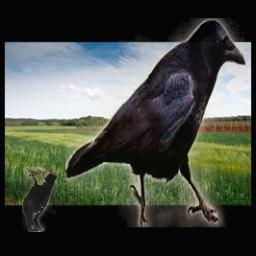Crow: (66, 18, 246, 227), (22, 167, 57, 232)
